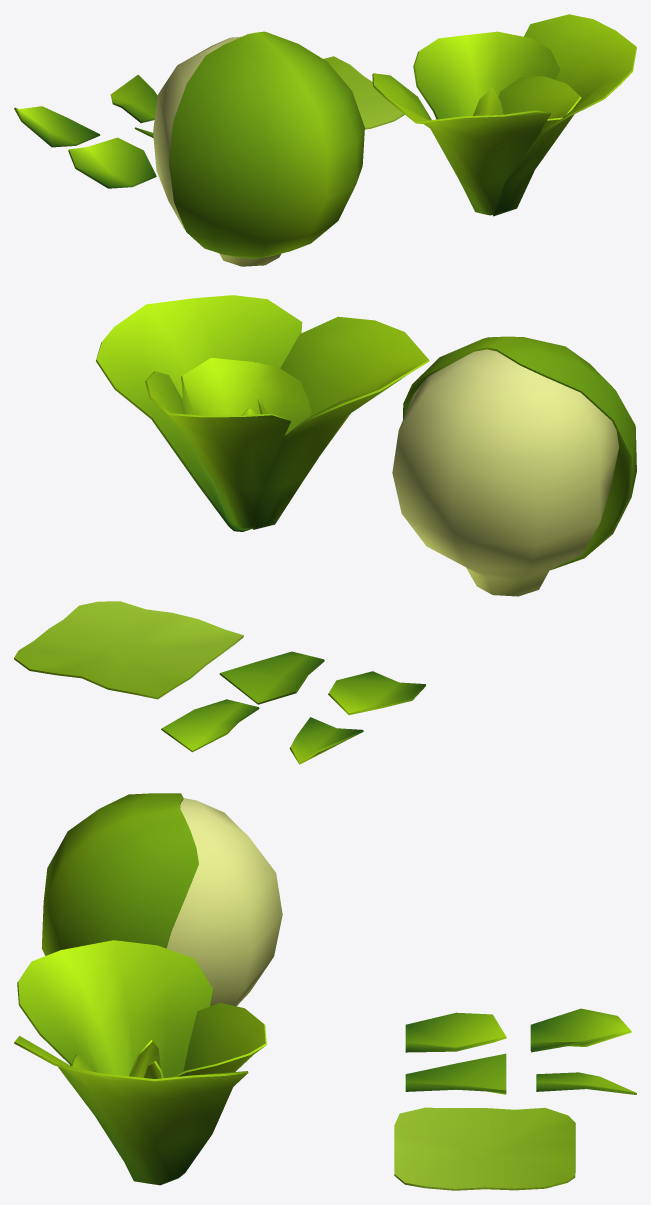
Rendered from lettuce.fbx.
3 views of the same model, one above another, from view 1: azimuth 30°, elevation 25°; view 2: azimuth 150°, elevation 25°; view 3: azimuth 270°, elevation 25° (orthographic). The views are drawn at different scales.
Visible parts, largest first — view 1: lettuceIceberg_Leaf, lettuceButterhead, lettuceIceberg, lettuceSliced_2, lettuce_square, lettuceSliced_3, lettuceSliced_1; view 2: lettuceButterhead, lettuceIceberg, lettuce_square, lettuceIceberg_Leaf, lettuceSliced_0, lettuceSliced_2, lettuceSliced_1, lettuceSliced_3; view 3: lettuceButterhead, lettuceIceberg_Leaf, lettuceIceberg, lettuce_square, lettuceSliced_2, lettuceSliced_3, lettuceSliced_0, lettuceSliced_1.
Part boxes in pixels (bbox=[...]): lettuceIceberg_Leaf: bbox=[169, 31, 364, 258]; lettuceButterhead: bbox=[372, 14, 636, 216]; lettuceIceberg: bbox=[153, 36, 280, 266]; lettuceSliced_2: bbox=[68, 137, 156, 188]; lettuce_square: bbox=[323, 56, 404, 129]; lettuceSliced_3: bbox=[14, 106, 100, 147]; lettuceSliced_1: bbox=[110, 74, 157, 123]; lettuceButterhead: bbox=[96, 295, 429, 531]; lettuceIceberg: bbox=[392, 349, 619, 596]; lettuce_square: bbox=[14, 601, 243, 699]; lettuceIceberg_Leaf: bbox=[403, 336, 636, 570]; lettuceSliced_0: bbox=[219, 651, 324, 704]; lettuceSliced_2: bbox=[328, 671, 425, 715]; lettuceSliced_1: bbox=[161, 699, 259, 752]; lettuceSliced_3: bbox=[289, 717, 363, 764]; lettuceButterhead: bbox=[14, 940, 266, 1185]; lettuceIceberg_Leaf: bbox=[41, 793, 198, 955]; lettuceIceberg: bbox=[166, 798, 282, 1006]; lettuce_square: bbox=[394, 1107, 575, 1190]; lettuceSliced_2: bbox=[405, 1012, 506, 1052]; lettuceSliced_3: bbox=[530, 1008, 631, 1052]; lettuceSliced_0: bbox=[405, 1053, 506, 1094]; lettuceSliced_1: bbox=[536, 1072, 636, 1094].
Bounding box in the file's own units: 2.91 × 3.1 × 1.4.
